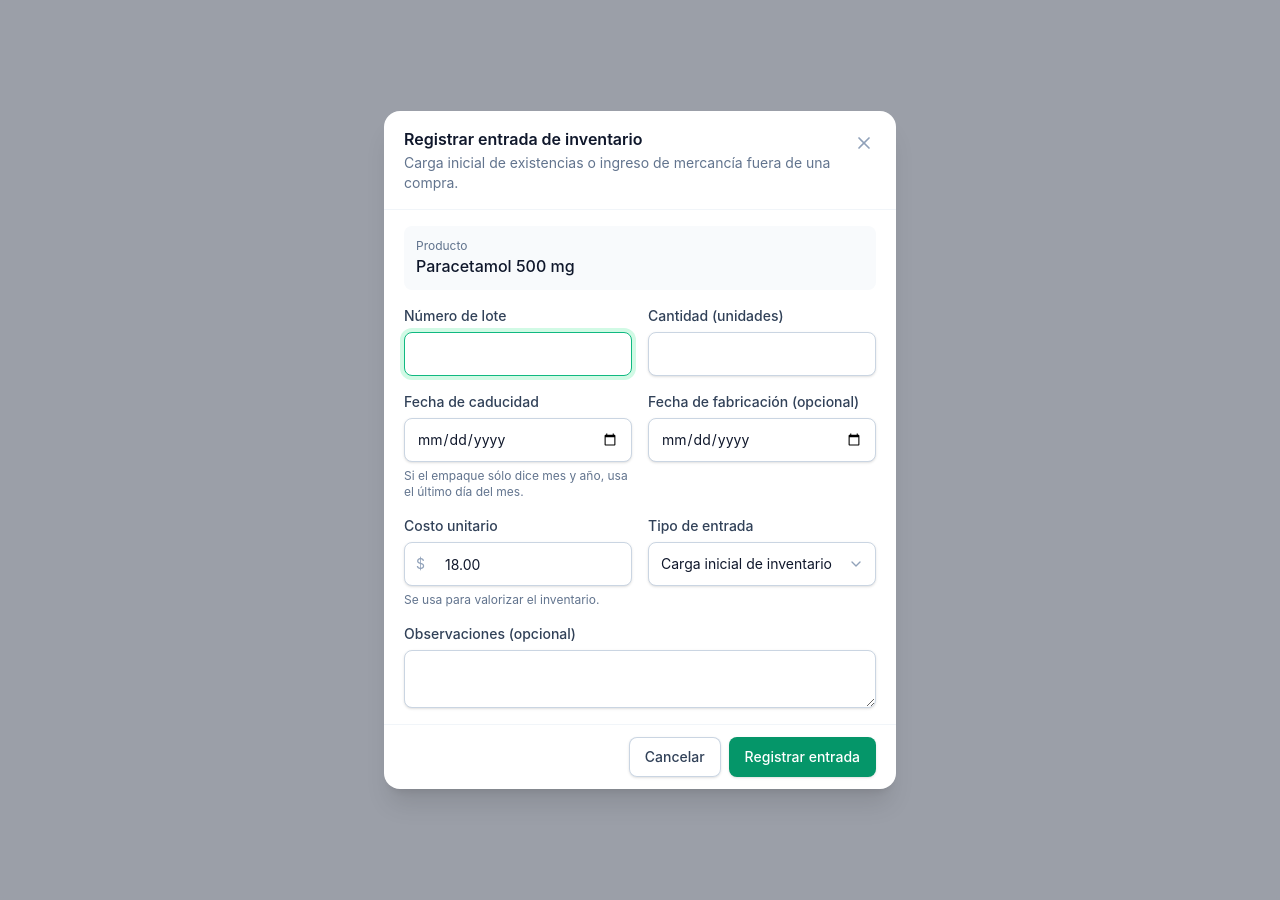
it: EntryDialog › valida y envía la carga inicial con el costo
Expected: the field labelled "Costo unitario" holds "18.00", top-left (404, 542), bottom-right (632, 586)
Click the button "Registrar entrada" at x=802, y=757, box top-left (729, 737), bottom-right (876, 777)
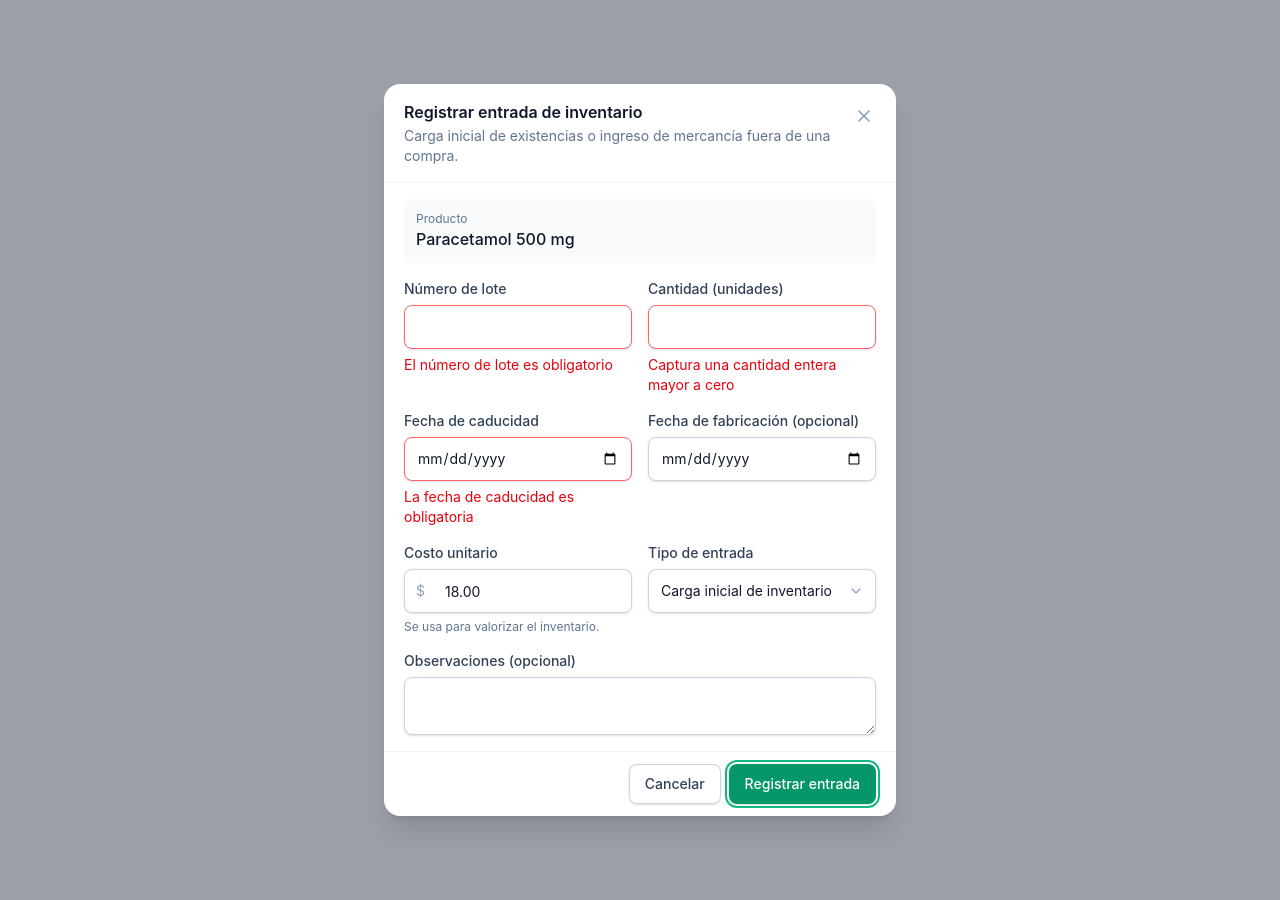
Result: the text "El número de lote es obligatorio" is shown at top-left (404, 355), bottom-right (632, 375)
Result: the text "La fecha de caducidad es obligatoria" is shown at top-left (404, 488), bottom-right (574, 525)
Type "nuevo1" into the field labelled "Número de lote" at x=518, y=327, box top-left (404, 305), bottom-right (632, 349)
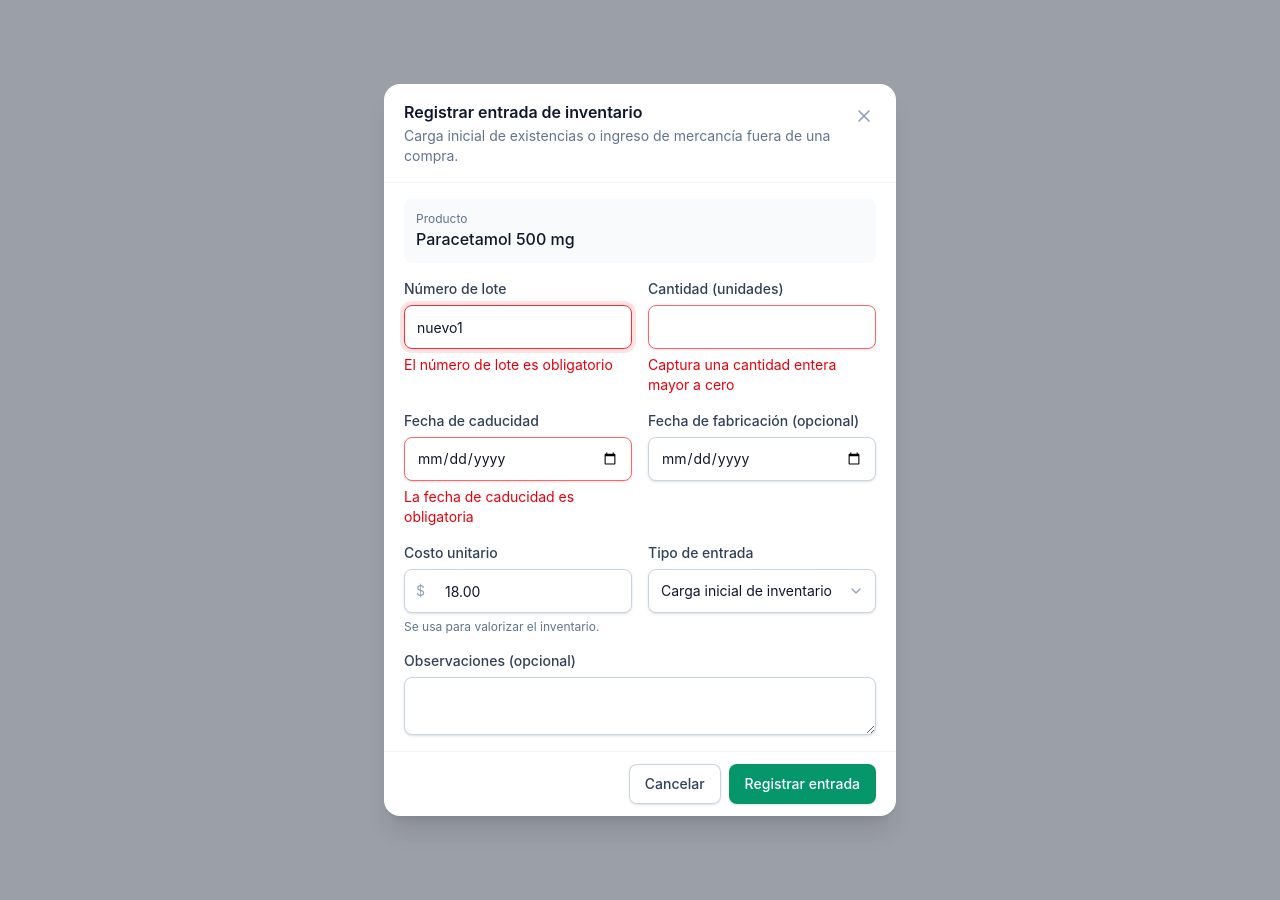
Type "24" into the field labelled "Cantidad (unidades)" at x=762, y=327, box top-left (648, 305), bottom-right (876, 349)
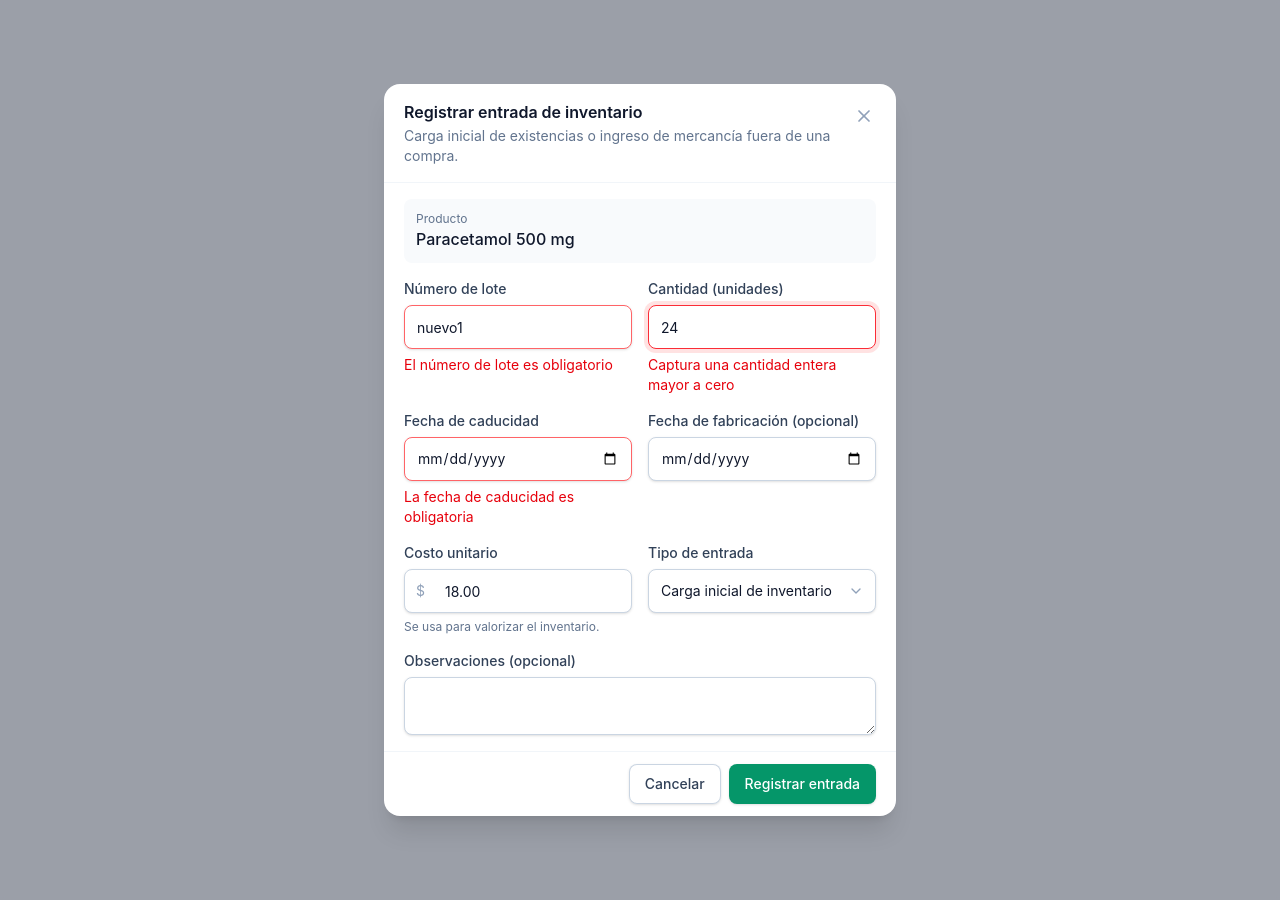
Type "2030-05-31" into the date field labelled "Fecha de caducidad" at x=518, y=459, box top-left (404, 437), bottom-right (632, 481)
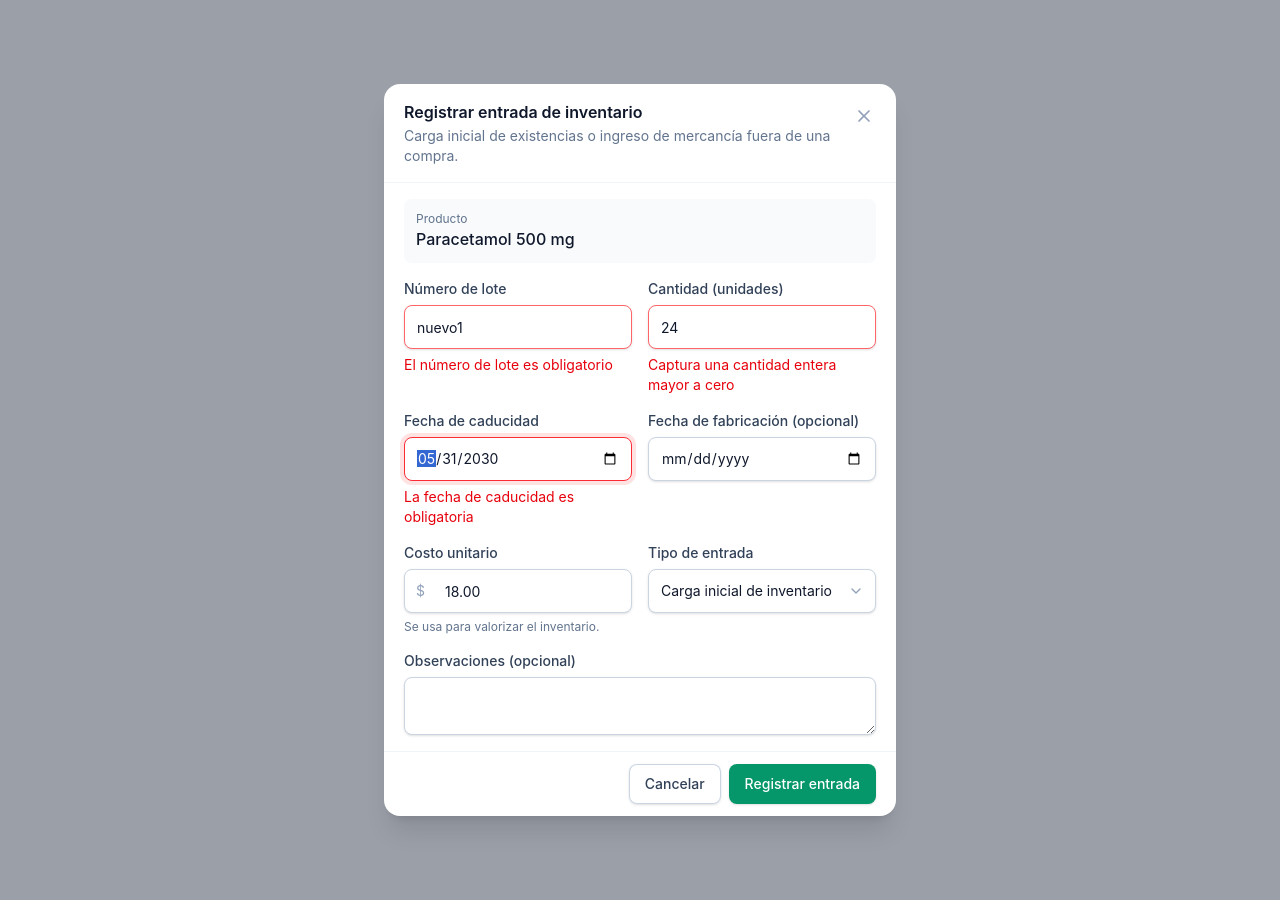
Click the button "Registrar entrada" at x=802, y=784, box top-left (729, 764), bottom-right (876, 804)
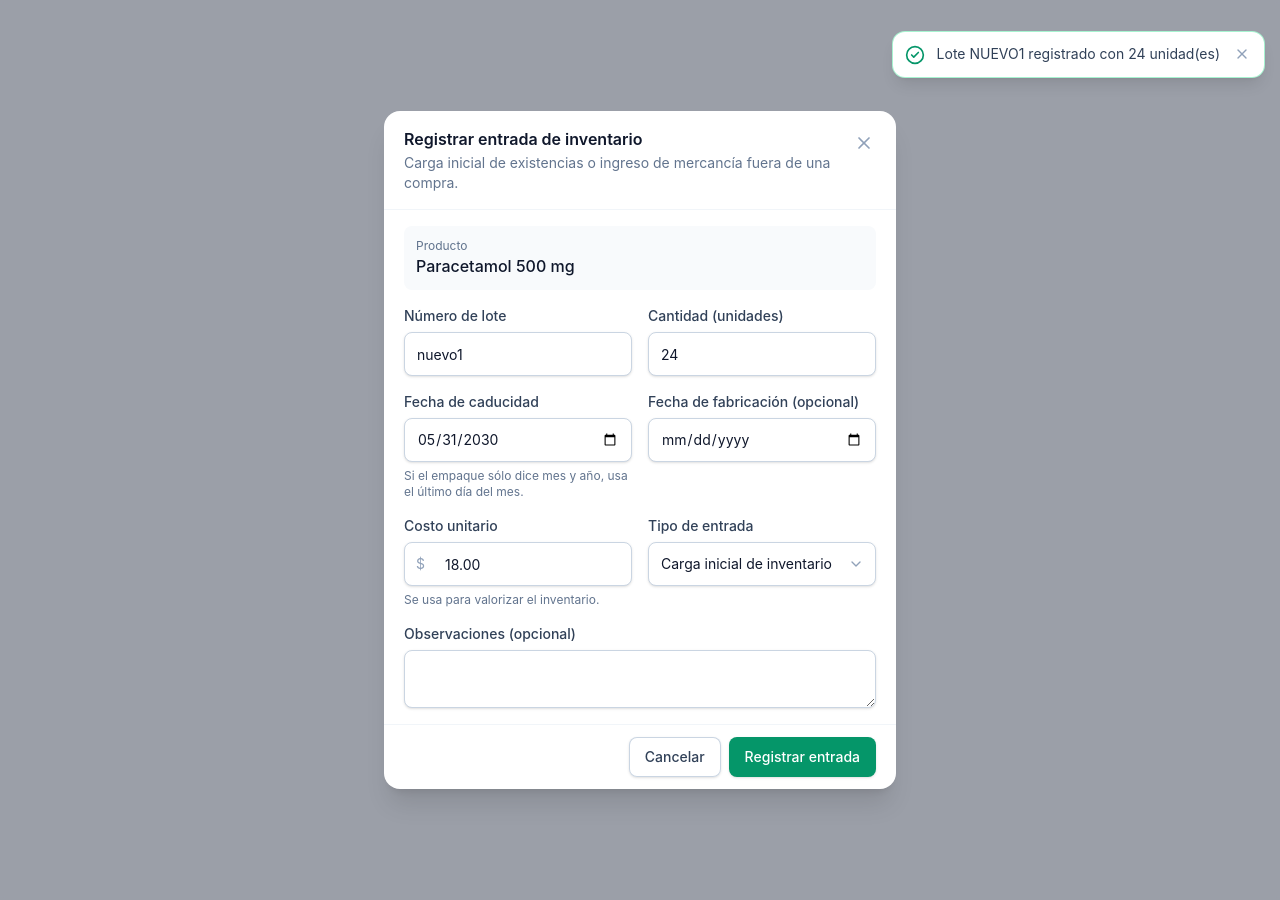
Result: the text "Lote NUEVO1 registrado con 24 unidad(es)" is shown at top-left (937, 44), bottom-right (1220, 64)
